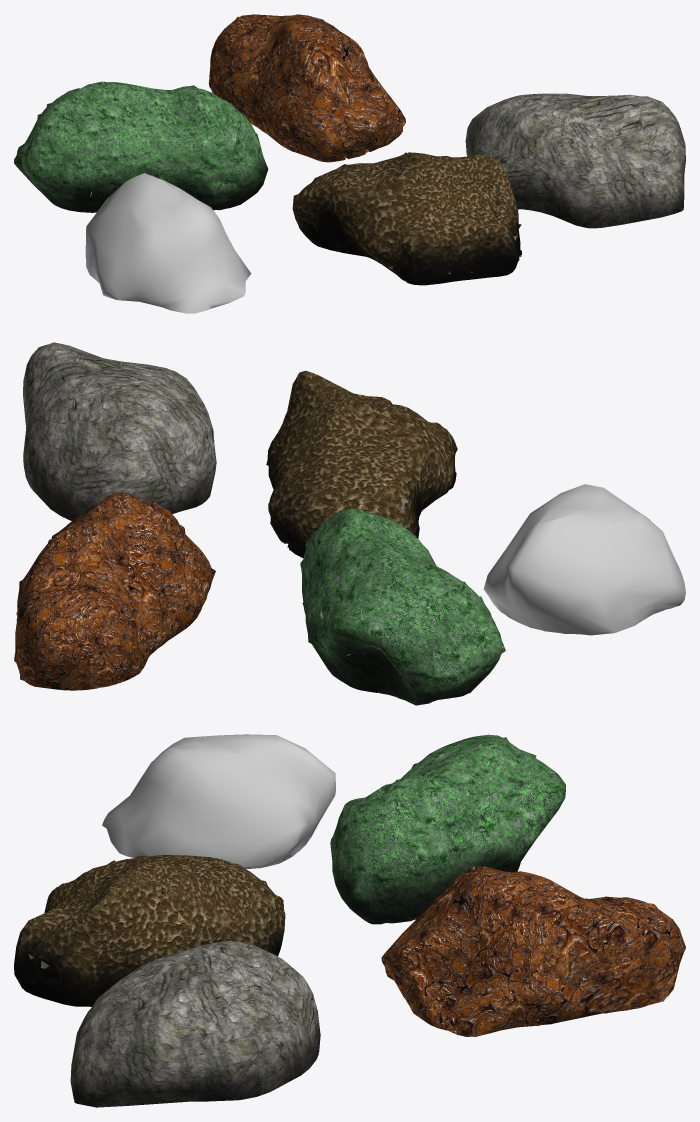
The model's file is 5stones.fbx.
3 renders of one model, top to bottom at view 1: azimuth 30°, elevation 25°; view 2: azimuth 150°, elevation 25°; view 3: azimuth 270°, elevation 25°, orthographic. The views are drawn at different scales.
Visible parts, largest first — view 1: stone002, stone001, stone005, stone003, stone 02; view 2: stone003, stone002, stone001, stone005, stone 02; view 3: stone003, stone001, stone002, stone005, stone 02.
Boxes of the visible parts, left/top/right/bottom form: stone002: left=14, top=81, right=268, bottom=212; stone001: left=465, top=93, right=685, bottom=228; stone005: left=292, top=152, right=521, bottom=285; stone003: left=208, top=14, right=405, bottom=162; stone 02: left=85, top=173, right=251, bottom=313; stone003: left=14, top=492, right=215, bottom=690; stone002: left=300, top=508, right=505, bottom=705; stone001: left=23, top=342, right=216, bottom=520; stone005: left=266, top=370, right=457, bottom=558; stone 02: left=483, top=484, right=685, bottom=635; stone003: left=381, top=866, right=685, bottom=1036; stone001: left=70, top=941, right=320, bottom=1107; stone002: left=330, top=734, right=565, bottom=924; stone005: left=14, top=855, right=285, bottom=1006; stone 02: left=102, top=734, right=335, bottom=869.
Size of the model in its own units: 966 by 170 by 838.
